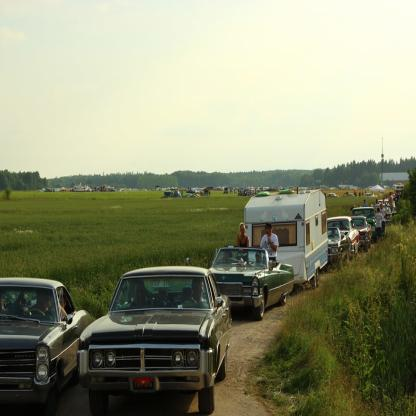Car: (1, 180, 391, 416)
